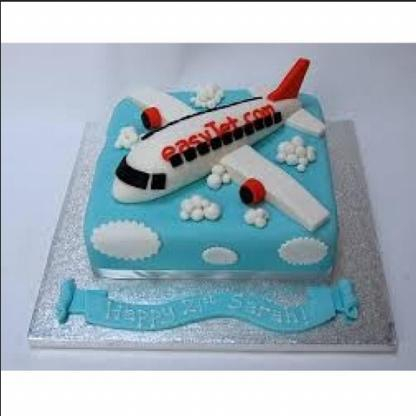CIV_Plane: (110, 56, 326, 238)
